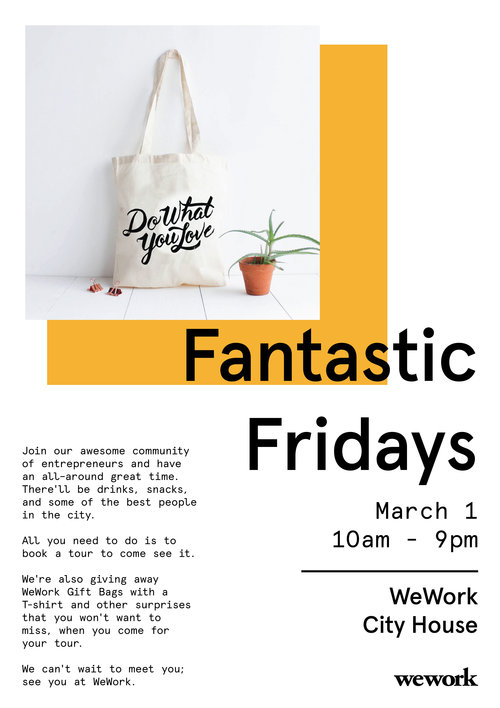wework: (390, 665, 479, 691)
